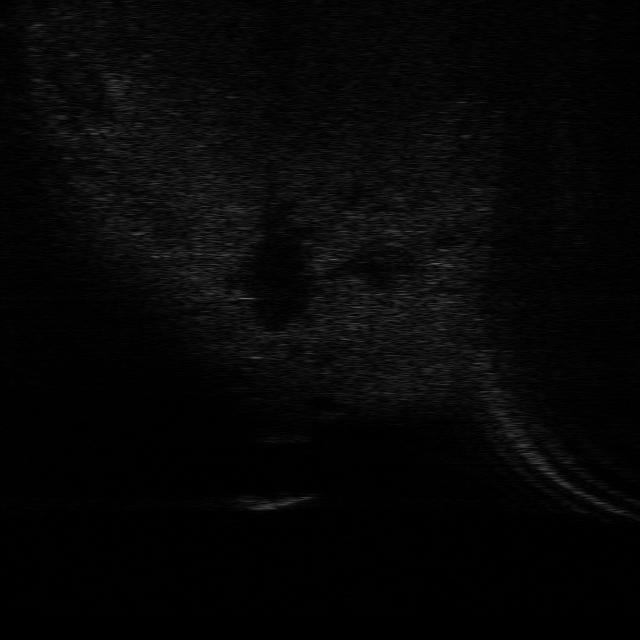cube: (231, 488, 320, 512)
